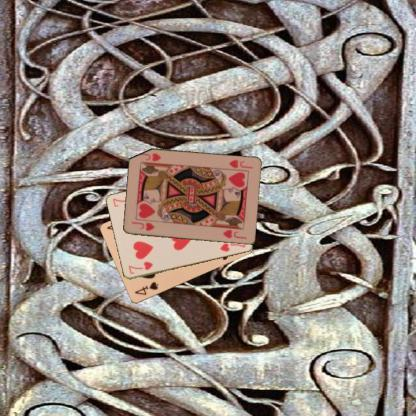4s: (132, 280, 160, 296)
7h: (126, 258, 154, 276)
Jh: (224, 157, 254, 173), (129, 218, 155, 233)
